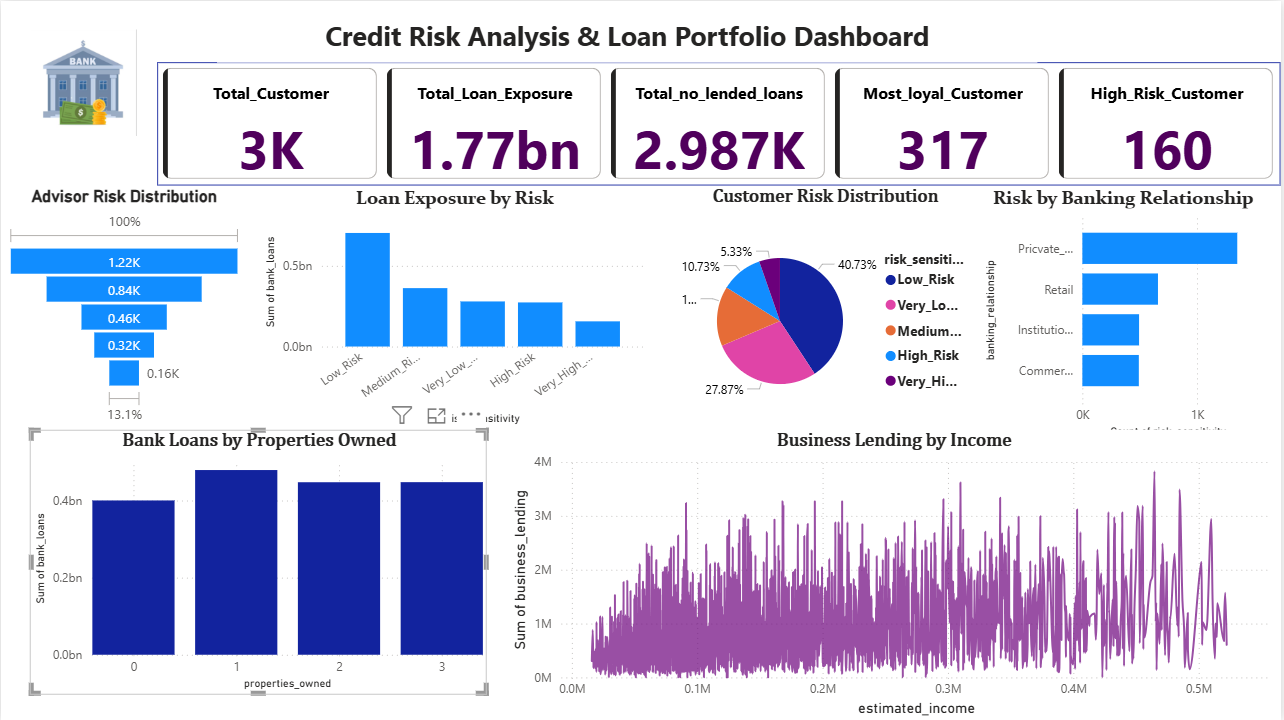

This screenshot's page, from the dashboard's own definition file:
{"tool":"powerbi","page":{"name":"Page 2","canvas":[1280,720],"ordinal":0},"visuals":[{"type":"cardVisual","fields":{"Data":["CountNonNull(public banking_customer.age)","Sum(public banking_customer.bank_loans)","Count(public banking_customer.business_lending)","public banking_customer.Count of loyalty_classification for Platinum","public banking_customer.Count of risk_sensitivity for Very_High_Risk"]},"box":[156.7,61.7,1123.3,123.3],"z":0},{"type":"pieChart","title":"Customer Risk Distribution","fields":{"Y":["CountNonNull(public banking_customer.risk_sensitivity)"],"Category":["public banking_customer.risk_sensitivity"]},"box":[670,185,308.3,256.7],"z":1000},{"type":"columnChart","title":"Loan Exposure by Risk","fields":{"Category":["public banking_customer.risk_sensitivity"],"Y":["Sum(public banking_customer.bank_loans)"]},"box":[258.3,185,390,243.3],"z":2000},{"type":"barChart","title":"Risk by Banking Relationship","fields":{"Category":["public banking_customer.banking_relationship"],"Y":["CountNonNull(public banking_customer.risk_sensitivity)"]},"box":[978.3,185,286.7,256.7],"z":3000},{"type":"columnChart","fields":{"Category":["public banking_customer.properties_owned"],"Y":["Sum(public banking_customer.bank_loans)"]},"box":[28.3,428.3,458.3,265],"z":4000},{"type":"funnel","fields":{"Category":["public banking_customer.risk_sensitivity"],"Y":["CountNonNull(public banking_customer.ivestment_advisor)"]},"box":[0,185,246.7,243.3],"z":5000},{"type":"lineChart","fields":{"Category":["public banking_customer.estimated_income"],"Y":["Sum(public banking_customer.business_lending)"]},"box":[506.7,428.3,773.3,291.7],"z":6000},{"type":"image","box":[28.3,11.7,115,123.3],"z":6001},{"type":"textbox","box":[216.7,11.7,820,50],"z":6002}]}

Visuals, with their boxes in screenshot pixels (x1, y1, x2, y2), scaled from the page's 1280x720 canvas onto the 1284x720 screenshot:
cardVisual - CountNonNull(public banking_customer.age) x Sum(public banking_customer.bank_loans): x1=157, y1=62, x2=1283, y2=185
"Customer Risk Distribution" pieChart: x1=672, y1=185, x2=981, y2=442
"Loan Exposure by Risk" columnChart: x1=259, y1=185, x2=650, y2=428
"Risk by Banking Relationship" barChart: x1=981, y1=185, x2=1269, y2=442
columnChart - public banking_customer.properties_owned x Sum(public banking_customer.bank_loans): x1=28, y1=428, x2=488, y2=693
funnel - public banking_customer.risk_sensitivity x CountNonNull(public banking_customer.ivestment_advisor): x1=0, y1=185, x2=247, y2=428
lineChart - public banking_customer.estimated_income x Sum(public banking_customer.business_lending): x1=508, y1=428, x2=1283, y2=719
image: x1=28, y1=12, x2=144, y2=135
textbox: x1=217, y1=12, x2=1040, y2=62
